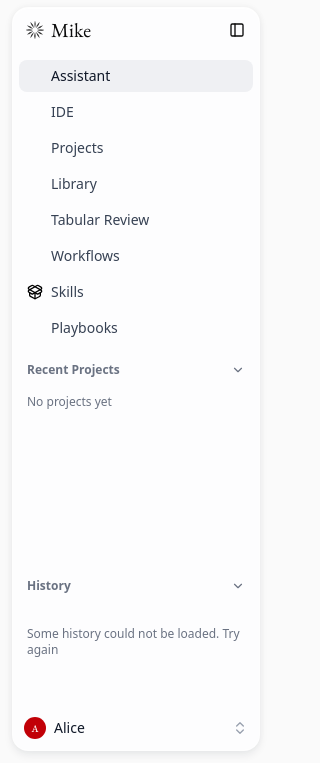
Test: AppSidebar workspace switcher › offers nothing to switch between for somebody in no organization
The width and height of the screenshot is (320, 763).
Expected: the text "Mike" is shown, top-left (51, 16), bottom-right (91, 44)
Click the button with aria-label "Account menu" at (136, 728), box top-left (17, 710), bottom-right (255, 746)
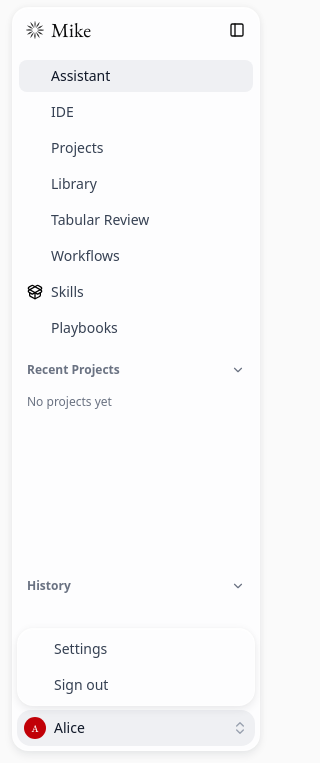
Result: the menu item "Settings" is shown at top-left (54, 639), bottom-right (107, 658)
